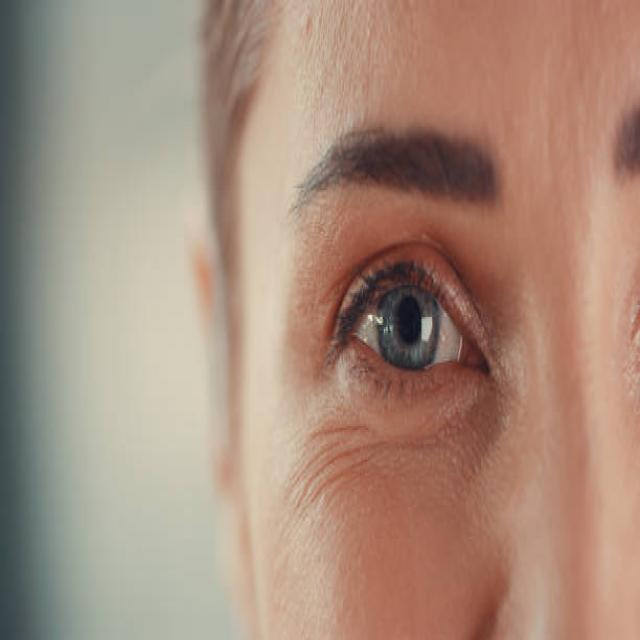Dry-Skin: (275, 370, 466, 631)
